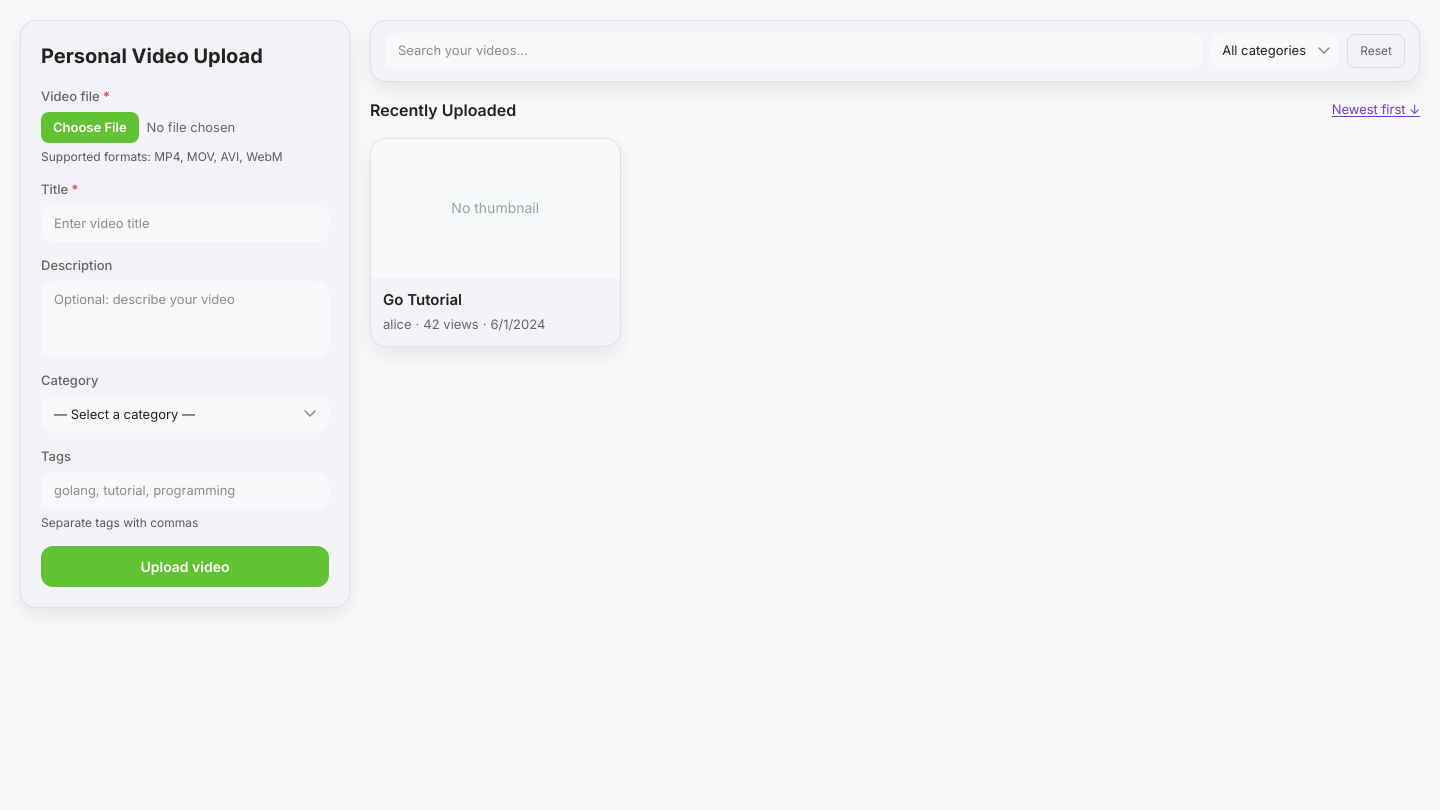
it: UploadPage › shows no-match message when filters return empty results
The image size is (1440, 810).
Expected: the link "Go Tutorial" is shown, [383,290,462,309]
Type "xyzzy" into the search field named "search videos".
click(794, 51); type("xyzzy")  # box [385,33,1203,68]
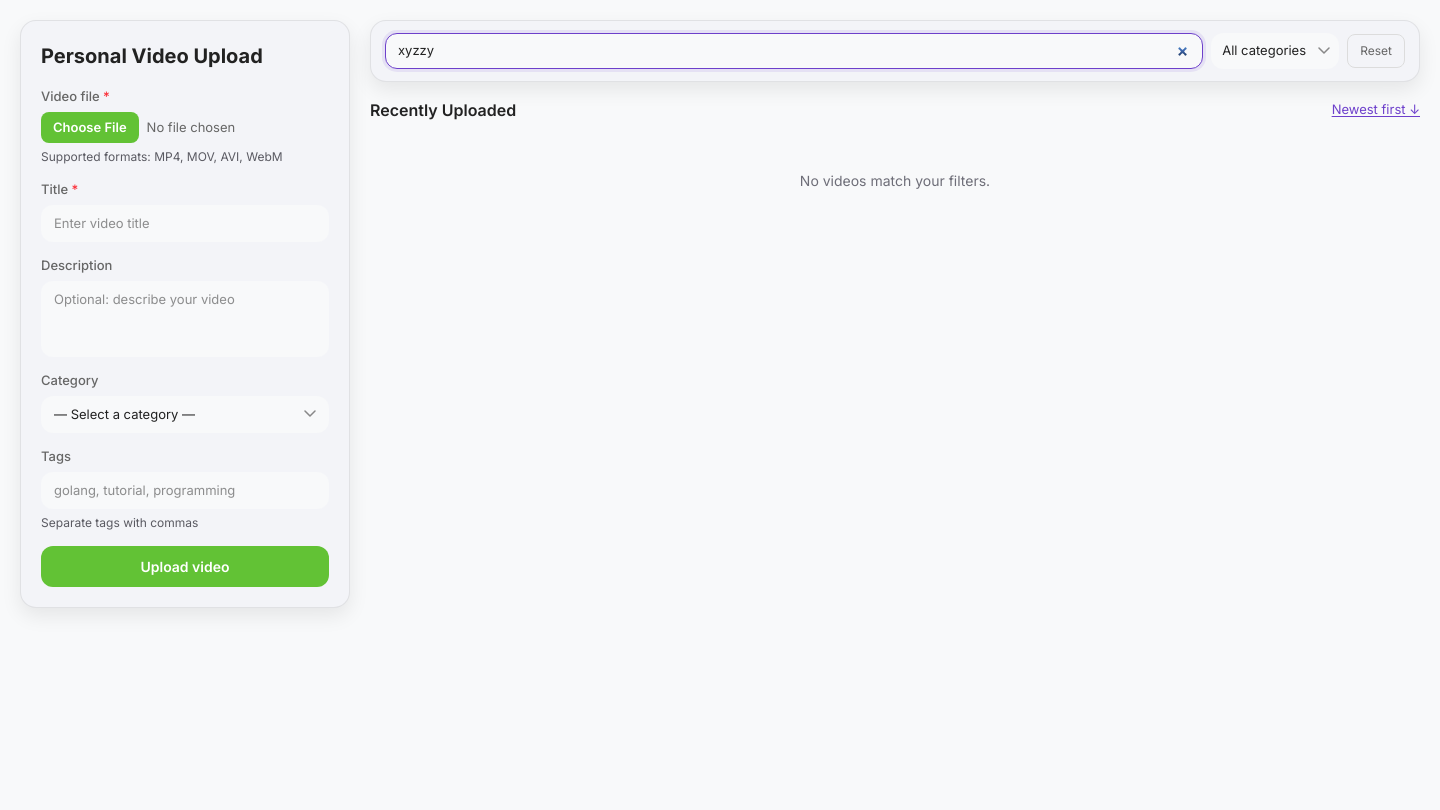
Expected: the text "No videos match your filters." is shown, [800,172,990,188]
